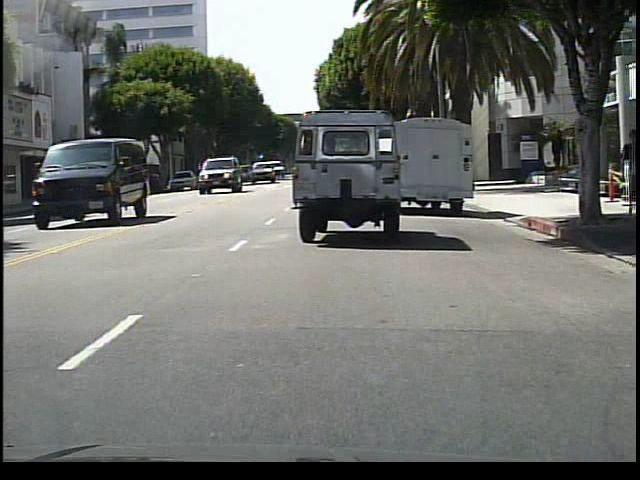person: (618, 133, 636, 214)
